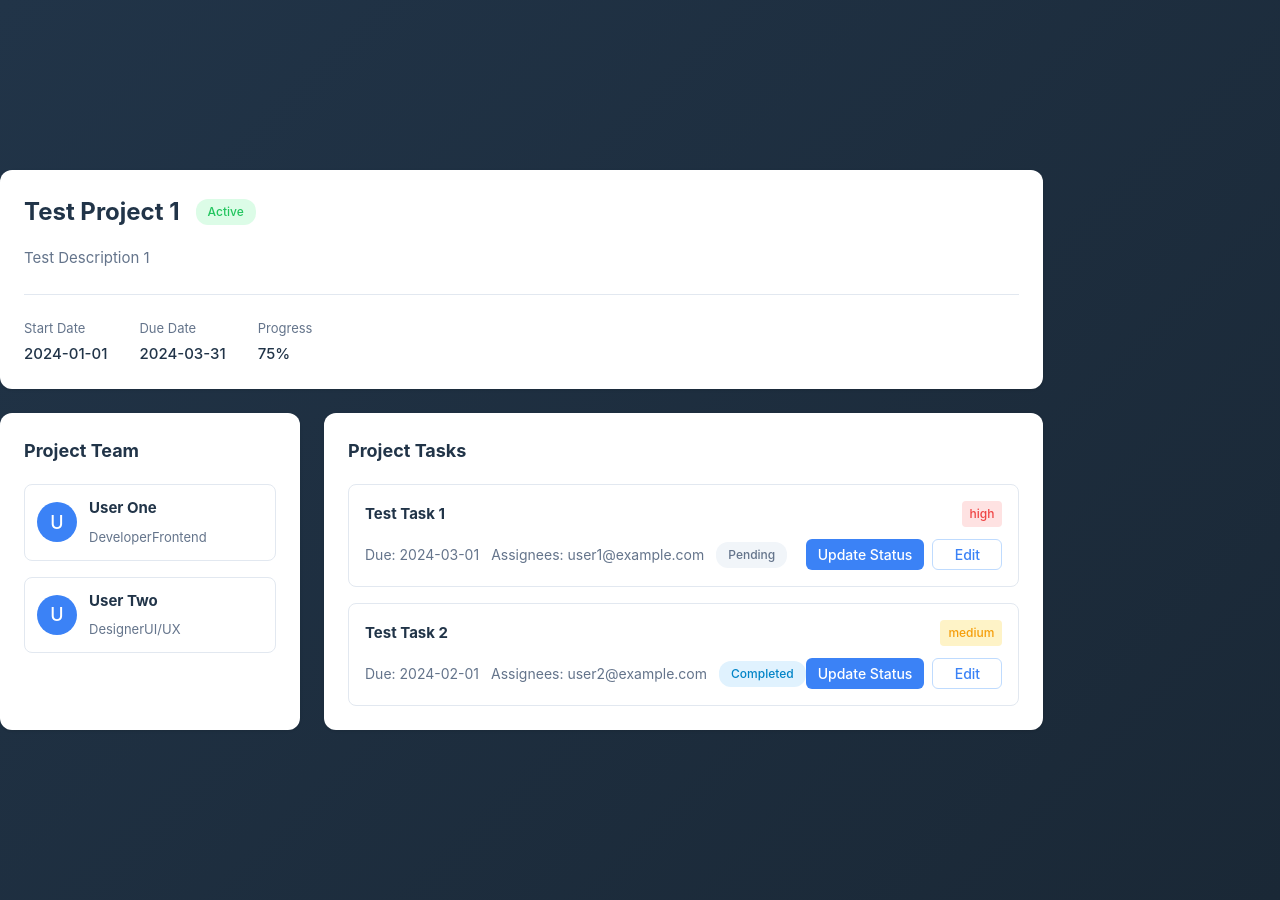
it: ProjectDetails Component › opens edit task modal when edit button is clicked
Click the button "Edit" in the row of "pending" at (967, 554), box [932,539,1002,570]
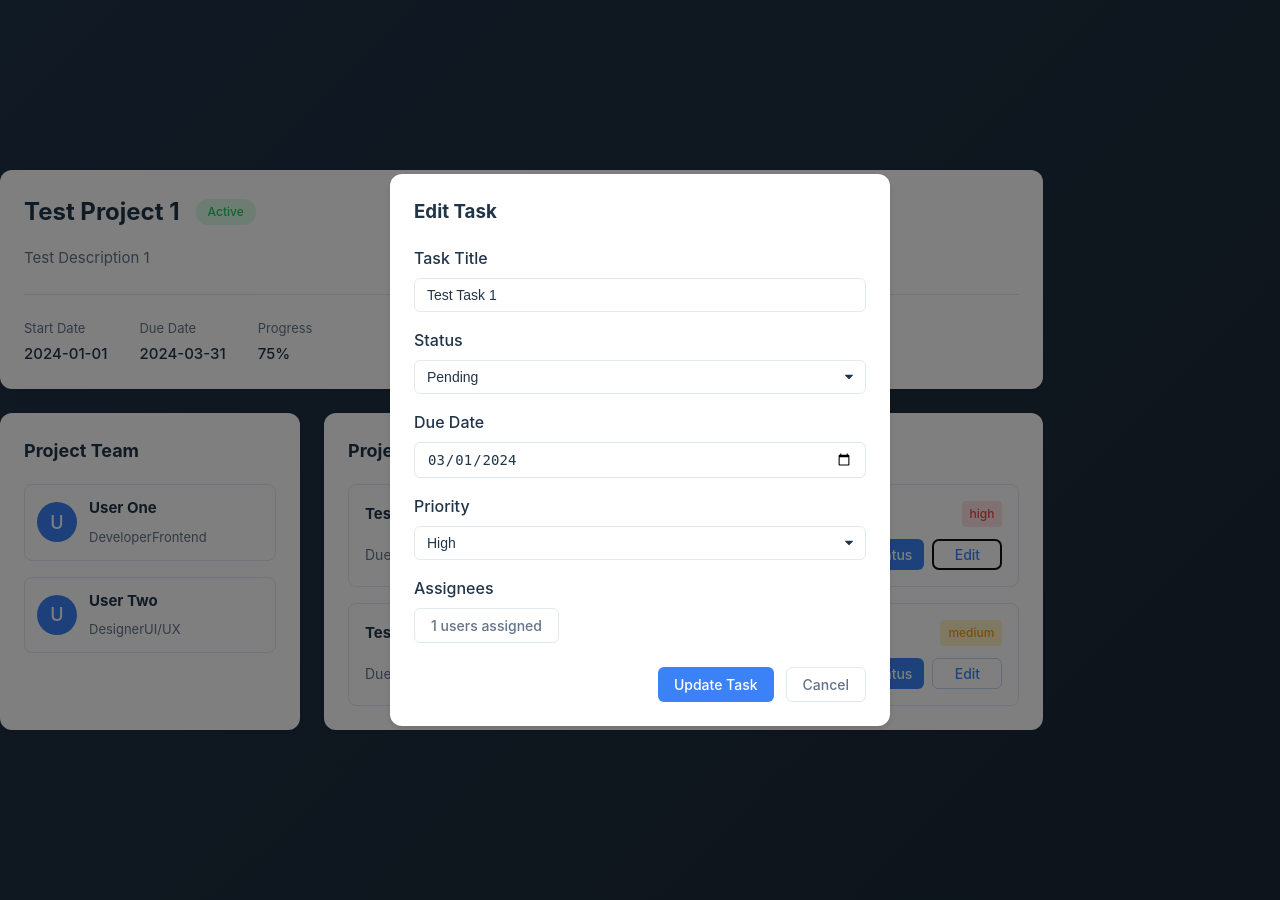
Check: the heading "Edit Task" is shown, box [414,200,497,223]
